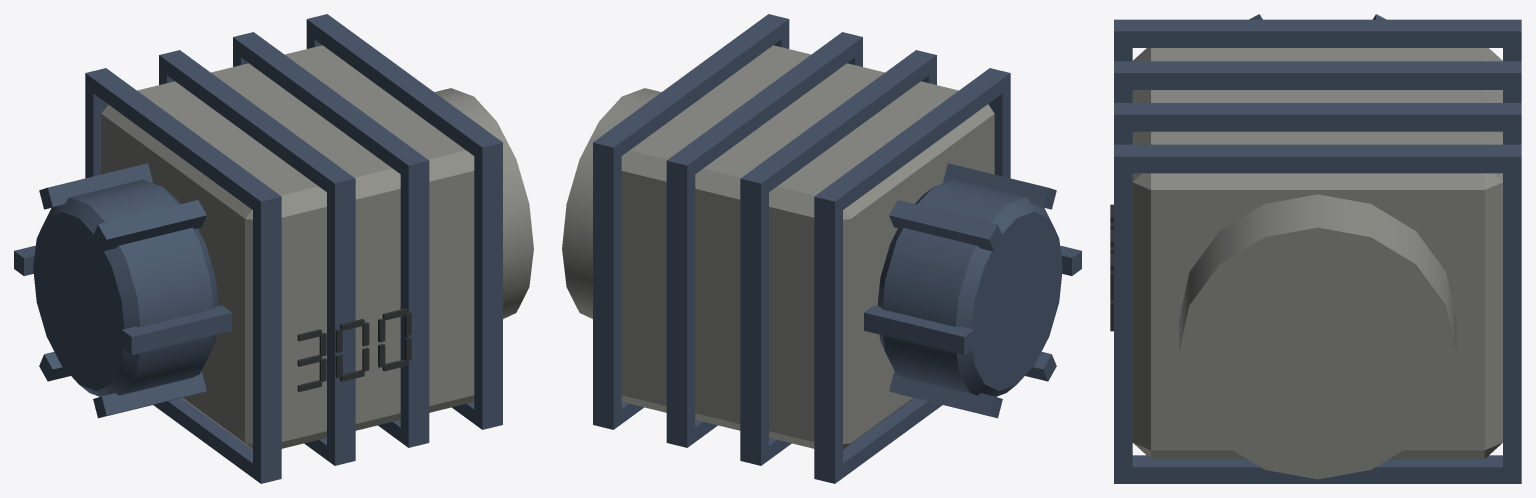
File: ko300_pump.obj
3 renders of one model, left to right at view 1: azimuth 30°, elevation 25°; view 2: azimuth 150°, elevation 25°; view 3: azimuth 270°, elevation 25°, orthographic. The views are drawn at different scales.
Visible parts, largest first — view 1: ko300_pump; view 2: ko300_pump; view 3: ko300_pump.
Boxes of the visible parts, x1,y1,x2,y2 form: ko300_pump: (14, 14, 533, 483); ko300_pump: (562, 14, 1081, 483); ko300_pump: (1110, 14, 1521, 483).
Bounding box in the file's own units: 1.16 × 0.78 × 0.888.
